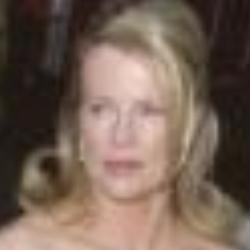face: (39, 4, 228, 216)
